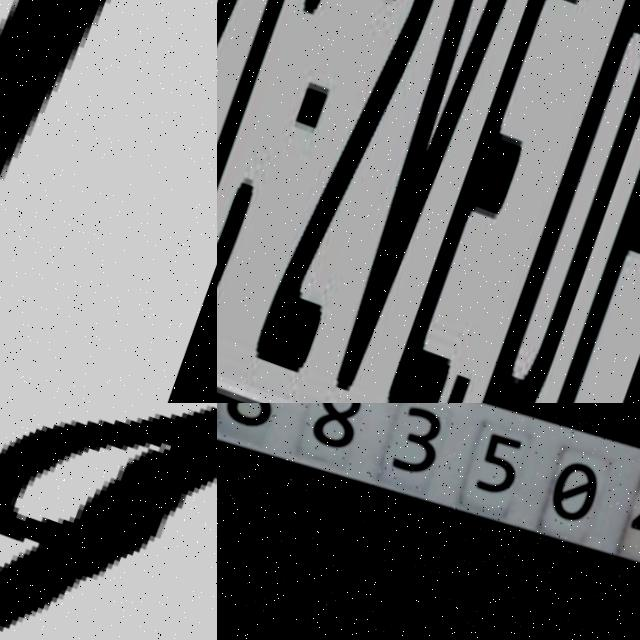0: (517, 433, 618, 547)
2: (224, 0, 486, 380)
3: (358, 403, 463, 496)
4: (600, 466, 640, 573)
5: (443, 409, 538, 515)
8: (279, 403, 381, 470), (217, 403, 302, 449)
C: (217, 0, 399, 356)
D: (449, 0, 640, 403)
E: (351, 0, 622, 403)
I: (0, 412, 217, 635)
J: (0, 0, 217, 403)
P: (505, 0, 640, 403)
V: (282, 0, 557, 403)
Z: (217, 0, 327, 331)
